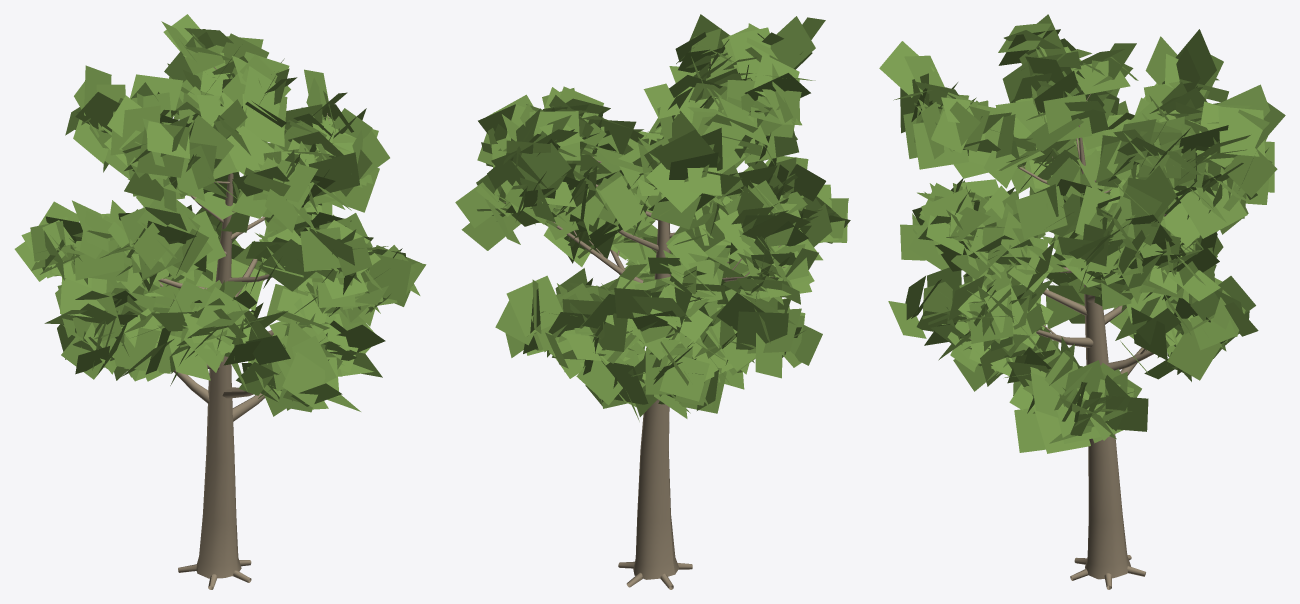
The model's file is oak-1-lod0.glb.
The picture shows the model from 3 angles, left to right: view 1: azimuth 30°, elevation 25°; view 2: azimuth 150°, elevation 25°; view 3: azimuth 270°, elevation 25°; orthographic projection.
Parts seen in each view (by area): view 1: oak-1-lod0-foliage, oak-1-lod0-bark; view 2: oak-1-lod0-foliage, oak-1-lod0-bark; view 3: oak-1-lod0-foliage, oak-1-lod0-bark.
Part boxes in pixels (<box>): oak-1-lod0-foliage: <box>14,14,426,416</box>; oak-1-lod0-bark: <box>157,67,329,589</box>; oak-1-lod0-foliage: <box>455,14,850,421</box>; oak-1-lod0-bark: <box>503,61,785,589</box>; oak-1-lod0-foliage: <box>879,14,1285,453</box>; oak-1-lod0-bark: <box>968,94,1167,589</box>.
Size of the model in its own units: 14.83 by 21.52 by 15.53.
